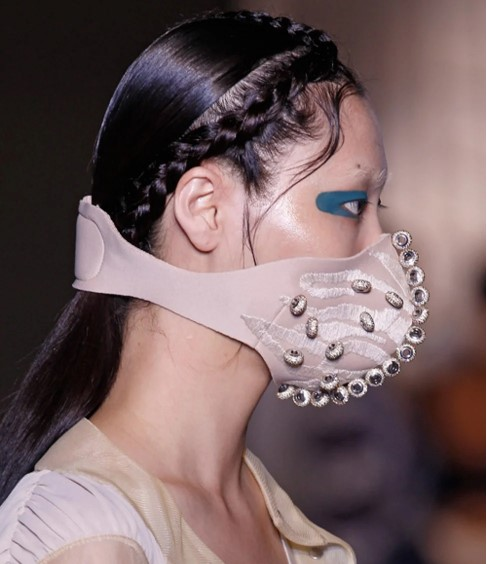face_with_mask: (75, 14, 430, 406)
